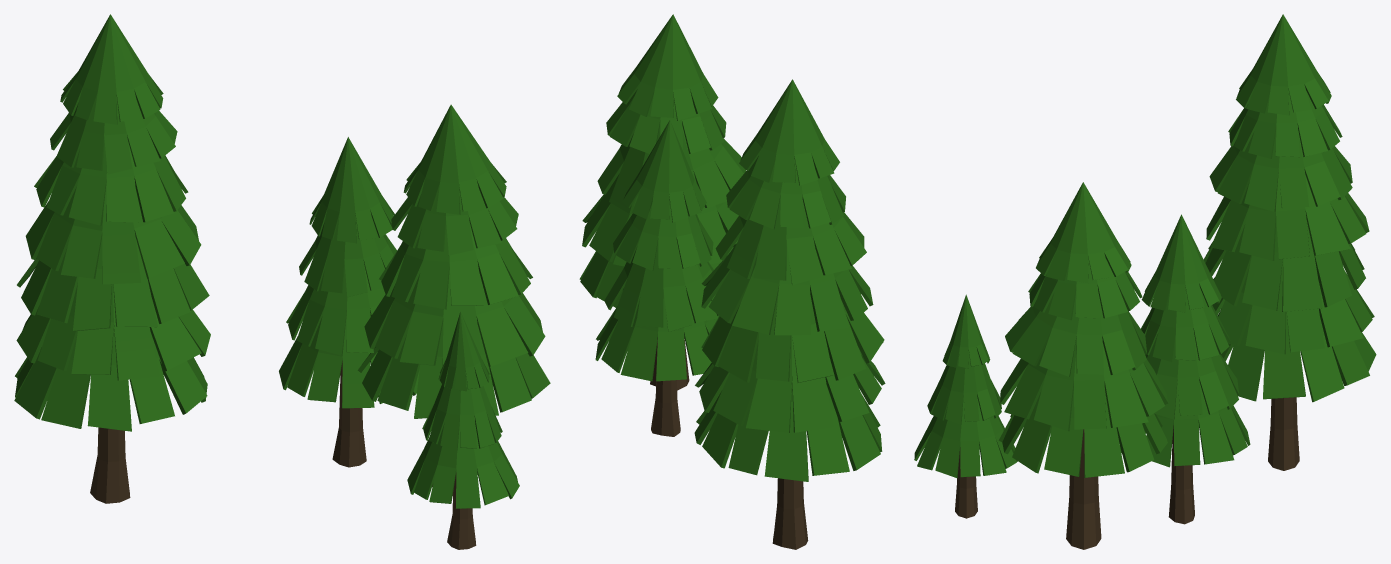
Rendered from trees1.gltf.
The picture shows the model from 3 angles, left to right: view 1: azimuth 30°, elevation 25°; view 2: azimuth 150°, elevation 25°; view 3: azimuth 270°, elevation 25°; orthographic projection. The views are drawn at different scales.
Parts seen in each view (by area): view 1: Tree3_1.001, Tree3_2.001, Tree3_3, Tree3_4; view 2: Tree3_1.001, Tree3_3, Tree3_2.001; view 3: Tree3_1.001, Tree3_2.001, Tree3_3, Tree3_4.
Part boxes in pixels (<box>): Tree3_1.001: <box>14,14,210,503</box>; Tree3_2.001: <box>357,104,550,495</box>; Tree3_3: <box>279,137,419,467</box>; Tree3_4: <box>407,311,519,549</box>; Tree3_1.001: <box>694,79,885,549</box>; Tree3_3: <box>595,120,718,436</box>; Tree3_2.001: <box>579,14,745,390</box>; Tree3_1.001: <box>1203,14,1376,470</box>; Tree3_2.001: <box>998,182,1168,549</box>; Tree3_3: <box>1120,214,1250,524</box>; Tree3_4: <box>914,294,1017,518</box>.
Bounding box in the file's own units: 8.94 × 10.32 × 9.64.
